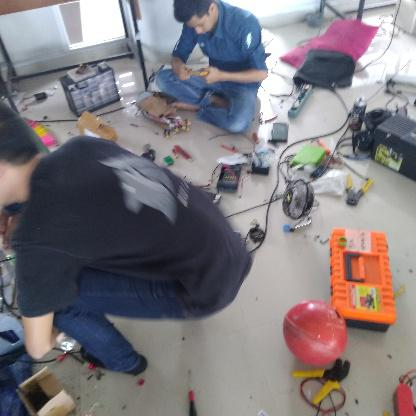red_buoy: (283, 298, 346, 370)
